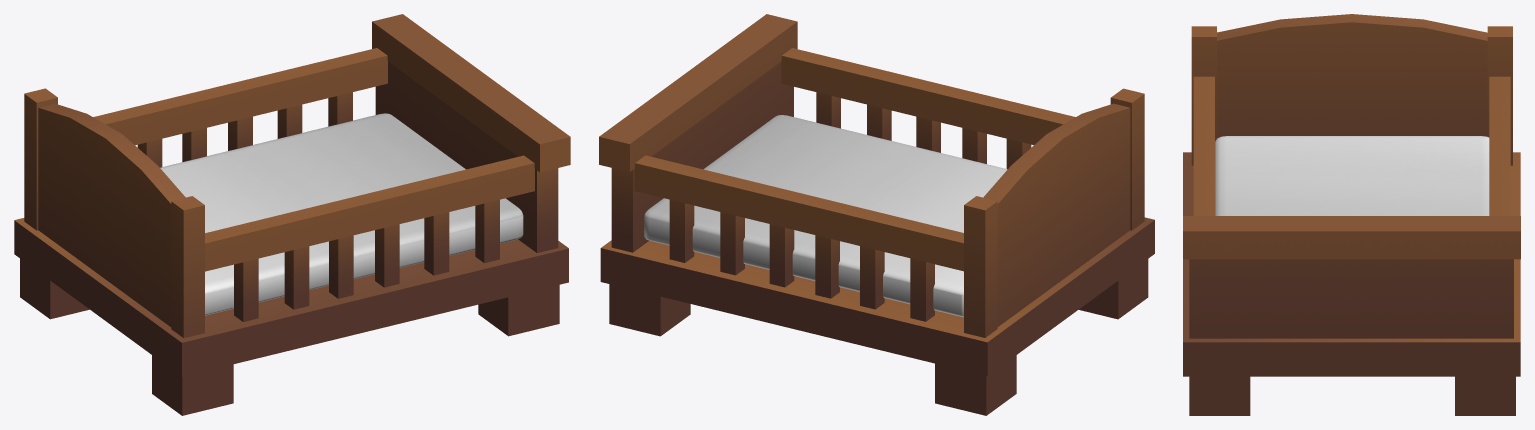
Rendered from Crib.FBX.
3 renders of one model, left to right at view 1: azimuth 30°, elevation 25°; view 2: azimuth 150°, elevation 25°; view 3: azimuth 270°, elevation 25°, orthographic.
Parts seen in each view (by area): view 1: Box003; view 2: Box003; view 3: Box003.
Boxes of the visible parts, bbox=[...] form: Box003: bbox=[14, 14, 570, 415]; Box003: bbox=[599, 14, 1154, 415]; Box003: bbox=[1183, 14, 1520, 415].
Size of the model in its own units: 201 by 107 by 150.
Materials: 1 (1 with a texture image).
